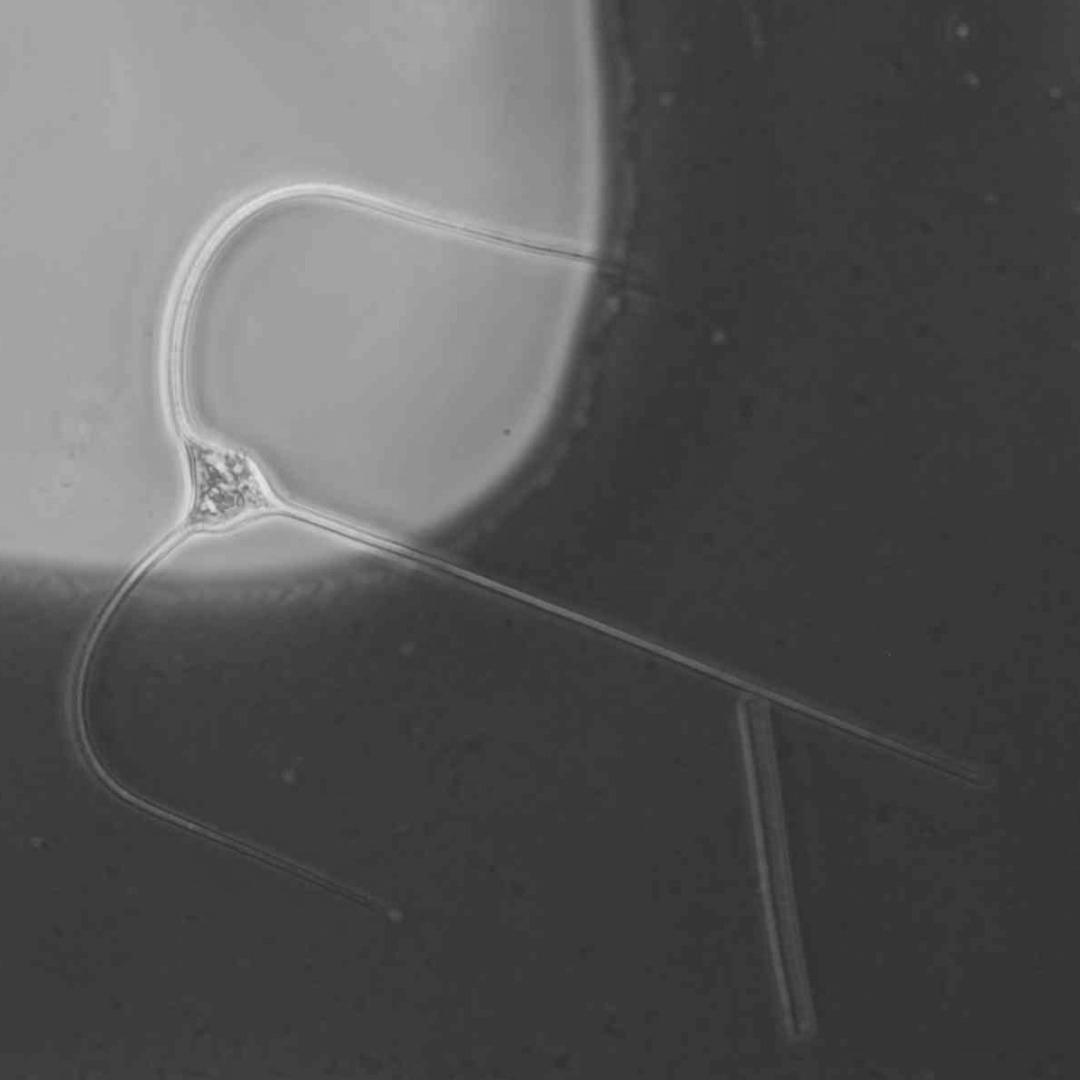ceratium_trichorecos: (72, 181, 991, 923)
